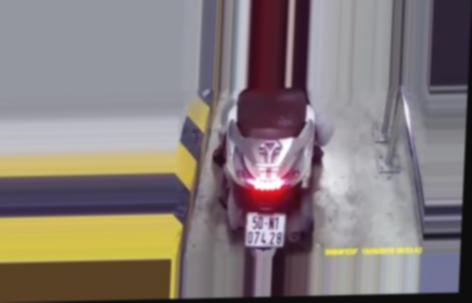License_Plate: (242, 209, 289, 248)
